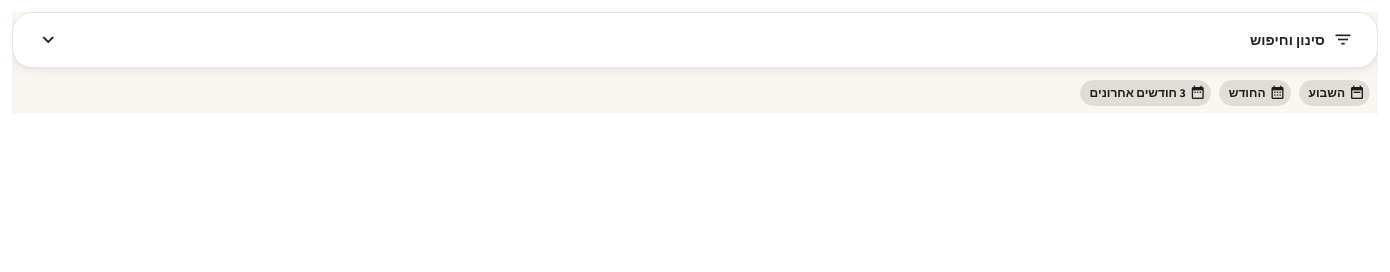
AppFilter Component › Default slot › renders default slot content
Click the button "סינון וחיפוש": (1287,40) [13,13,1377,67]
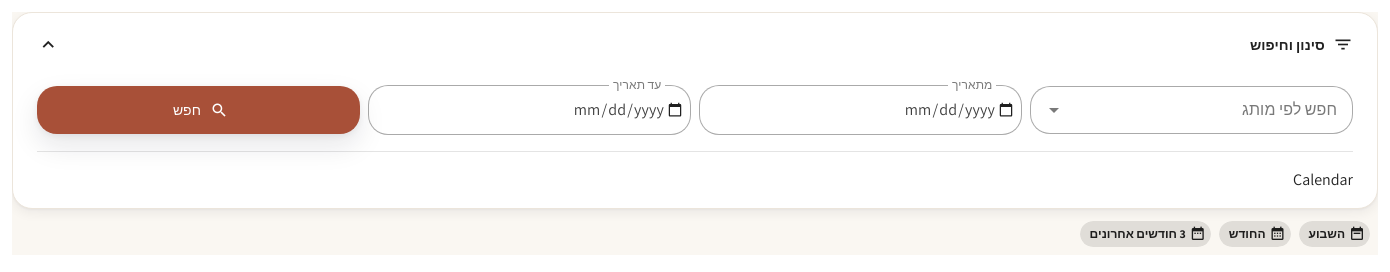
Now the text "Calendar" is shown, box [1293,169,1353,190]
